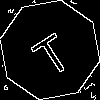T: (25, 25, 75, 79)
